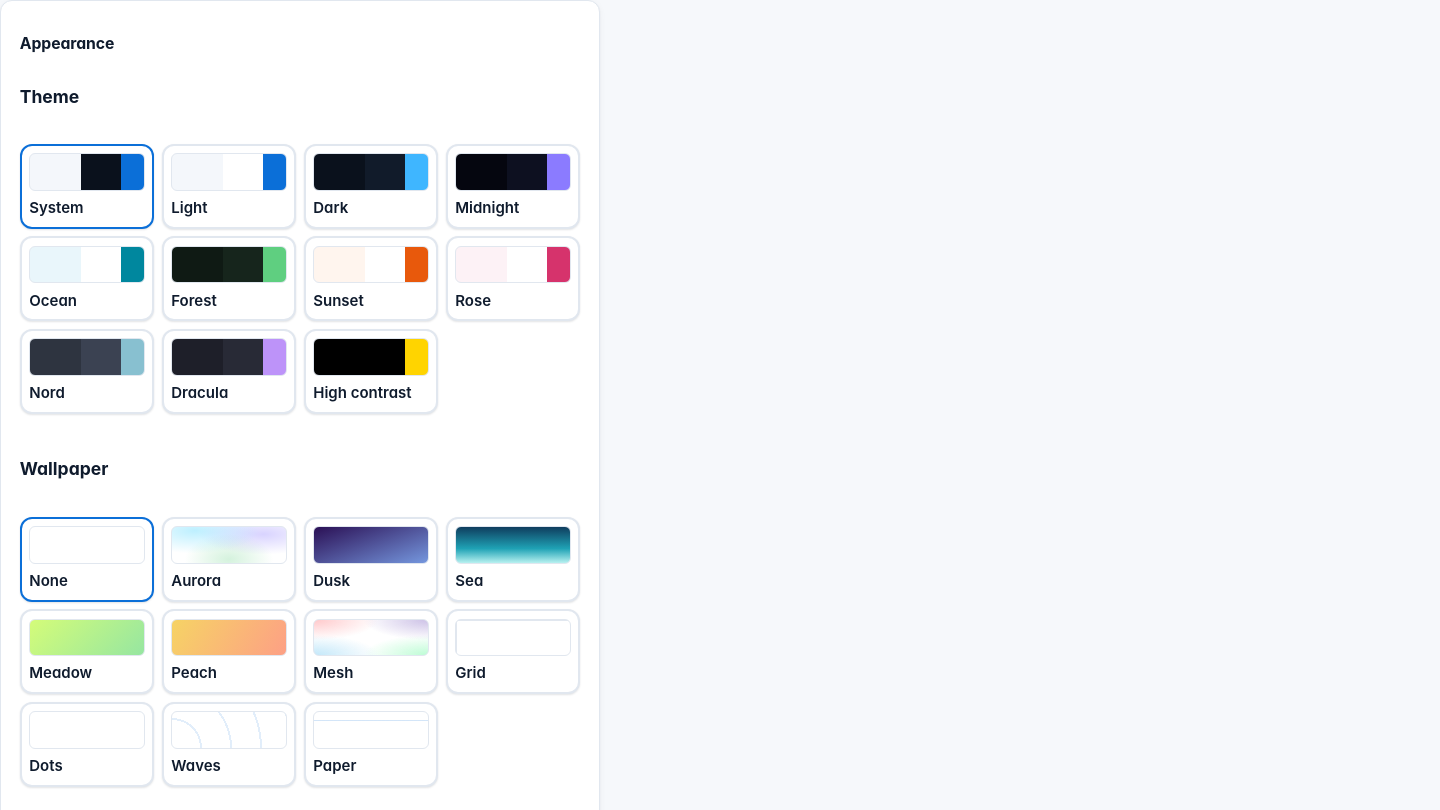
Test: AppearanceSettings › switches theme and wallpaper and remembers them
Later steps or results of the test are not shown.
Click the button "Nord": [87, 371] box [20, 329, 154, 414]
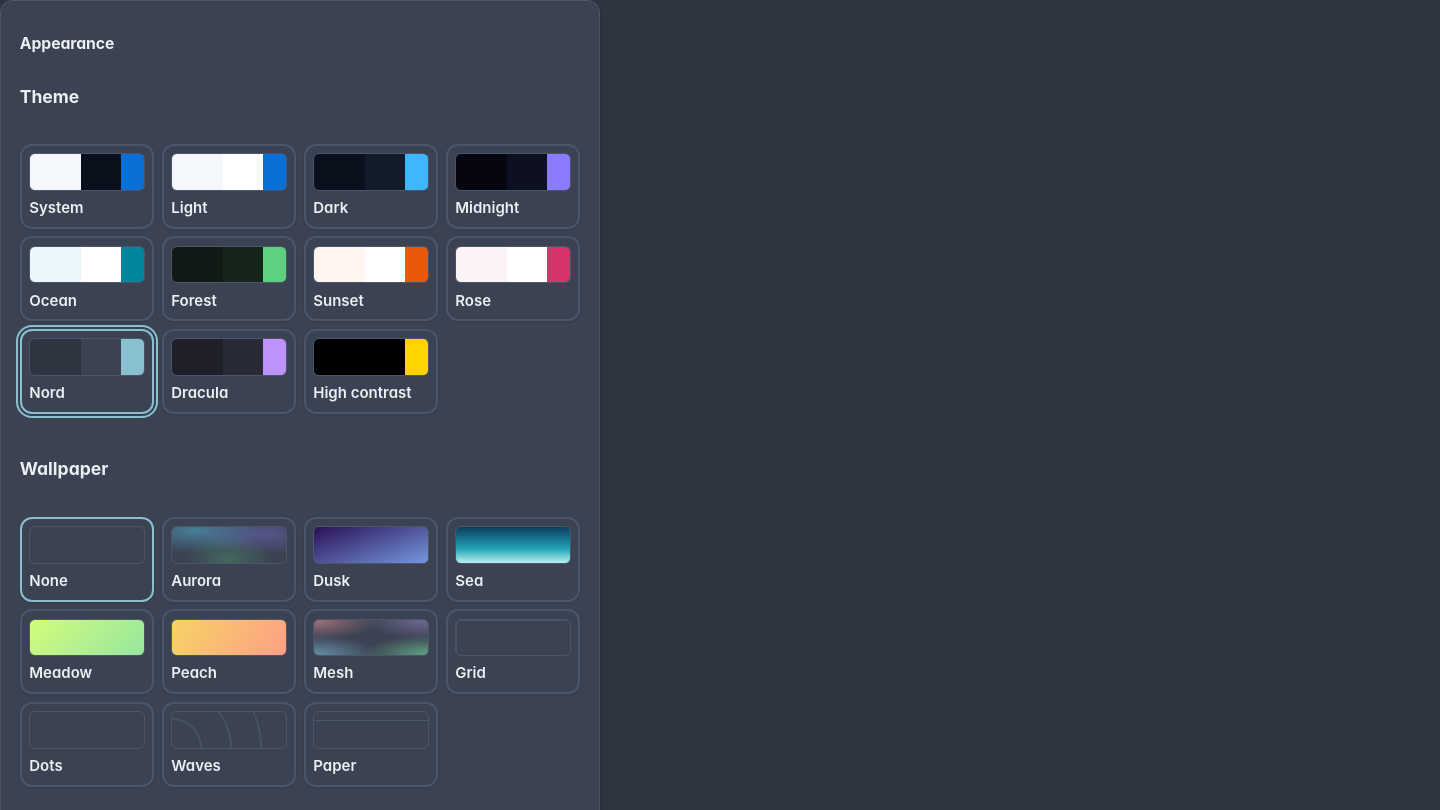
Expected: the button "Nord" is pressed, [20, 329, 154, 414]
